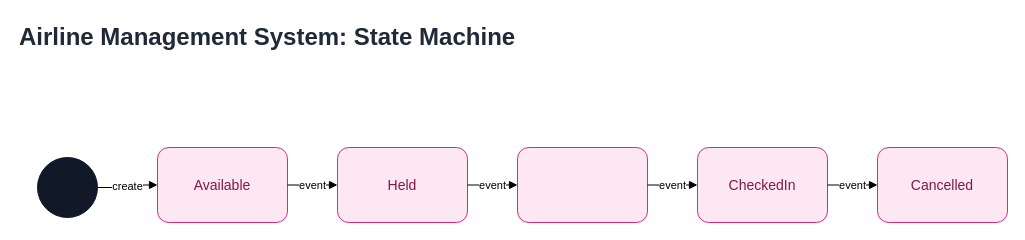
Image size: 1025x240. Some labels were removed from this diagram. Here are the shapes that lost their labels. From the top down, the box of each, then its label:
(36, 156, 98, 218): Start
(516, 146, 648, 222): Booked
